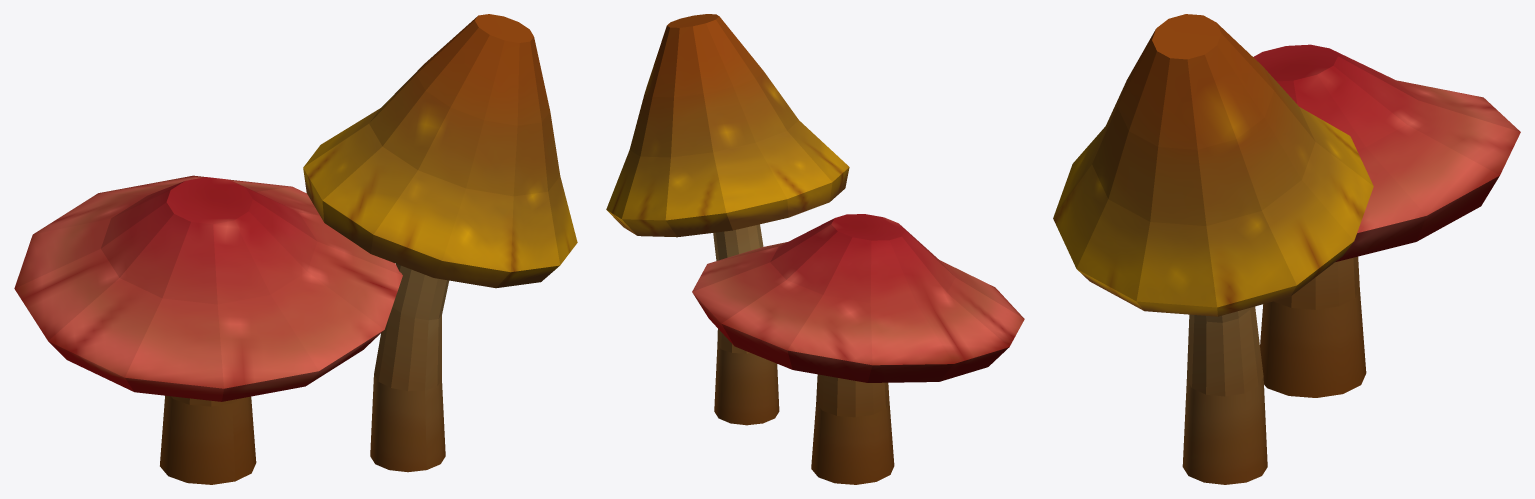
File: mushroom_2.fbx
3 renders of one model, left to right at view 1: azimuth 30°, elevation 25°; view 2: azimuth 150°, elevation 25°; view 3: azimuth 270°, elevation 25°, orthographic. The views are drawn at different scales.
Parts seen in each view (by area): view 1: mushroom_2; view 2: mushroom_2; view 3: mushroom_2.
Boxes of the visible parts, x1,y1,x2,y2 form: mushroom_2: (14,14,577,484); mushroom_2: (606,14,1024,484); mushroom_2: (1053,14,1520,484).
Size of the model in its own units: 0.6495 by 0.556 by 0.4882.
